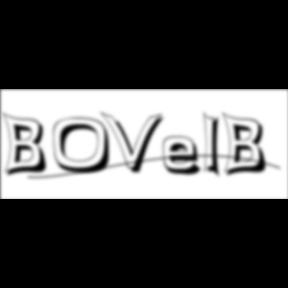B: (3, 111, 53, 179), (223, 111, 273, 179)
I: (203, 110, 227, 182)
O: (54, 117, 118, 176)
V: (102, 110, 168, 176)
e: (163, 135, 209, 178)
